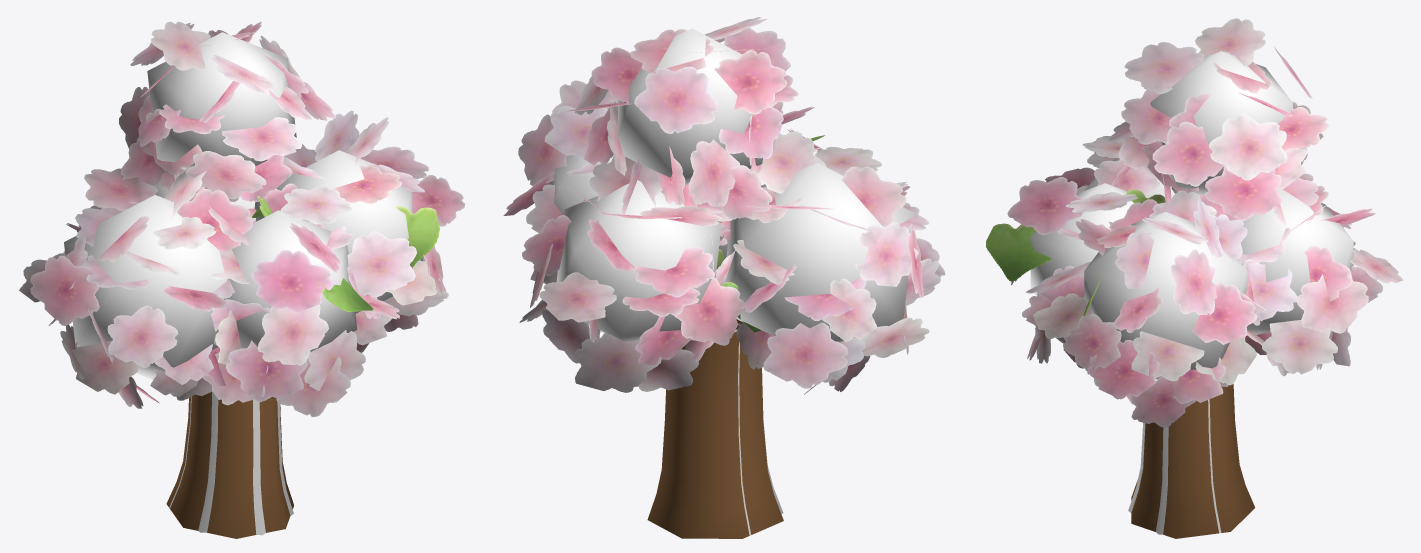
File: tree-tall-blossom.lod1.glb
The picture shows the model from 3 angles, left to right: view 1: azimuth 30°, elevation 25°; view 2: azimuth 150°, elevation 25°; view 3: azimuth 270°, elevation 25°; orthographic projection. The views are drawn at different scales.
Visible parts, largest first — view 1: Crown, Hull, Trunk, Stem; view 2: Crown, Hull, Trunk, Stem; view 3: Crown, Hull, Trunk, Stem.
Part boxes in pixels (x1,y1,x2,y2): Crown: (19, 21, 465, 416); Hull: (64, 32, 422, 379); Trunk: (166, 392, 293, 538); Stem: (169, 391, 293, 535); Crown: (503, 17, 945, 394); Hull: (538, 28, 915, 343); Trunk: (647, 267, 783, 538); Stem: (734, 330, 783, 535); Crown: (986, 18, 1403, 427); Hull: (1030, 51, 1353, 381); Trunk: (1131, 384, 1255, 538); Stem: (1128, 399, 1221, 534).
Bounding box in the file's own units: 3.06 × 3.43 × 2.83.
4 materials, 1 textured.
